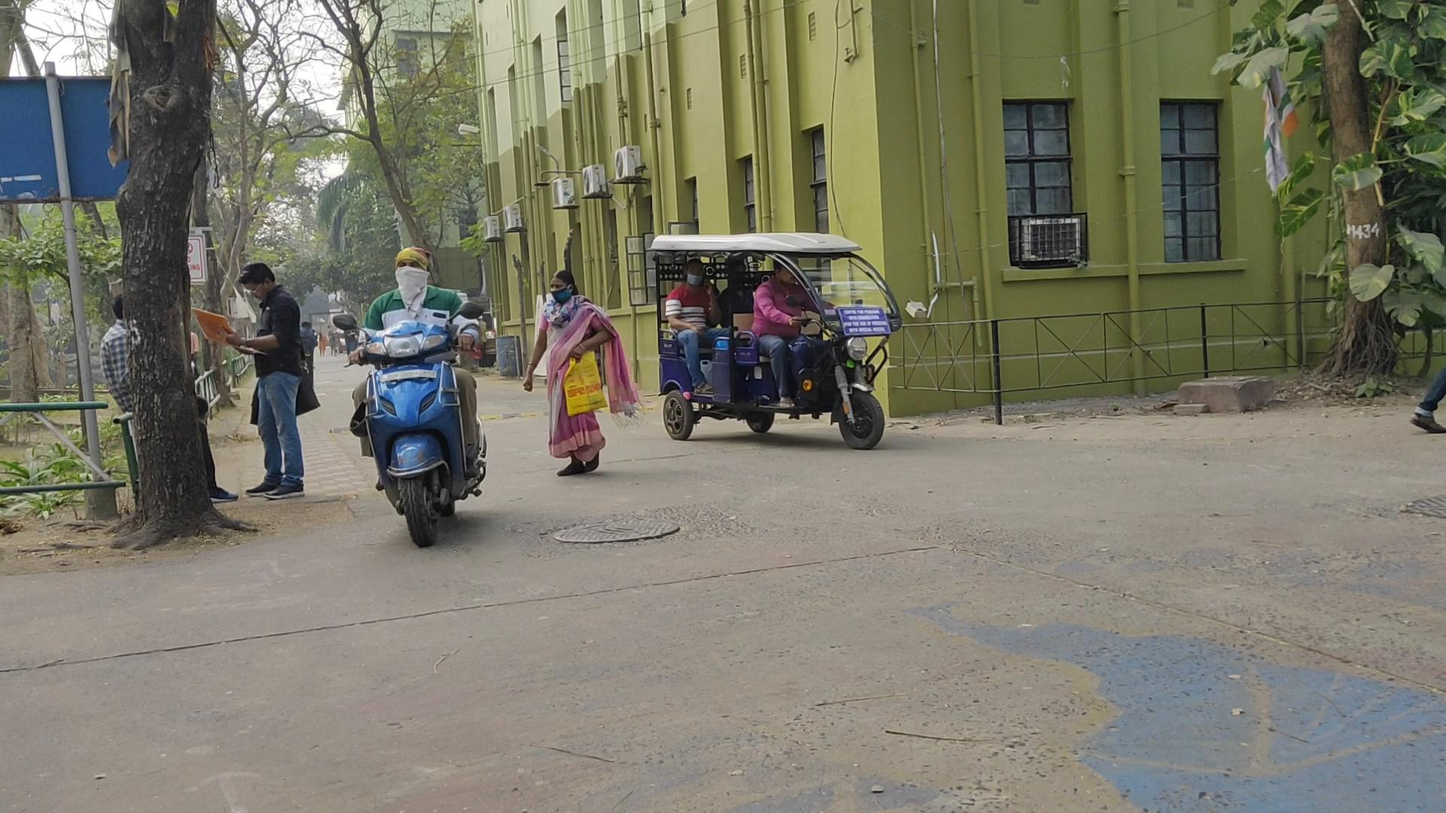Auto: (648, 230, 903, 449)
bike: (333, 245, 493, 547)
